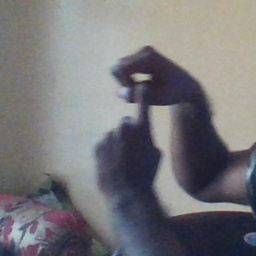Q: (89, 42, 187, 187)
